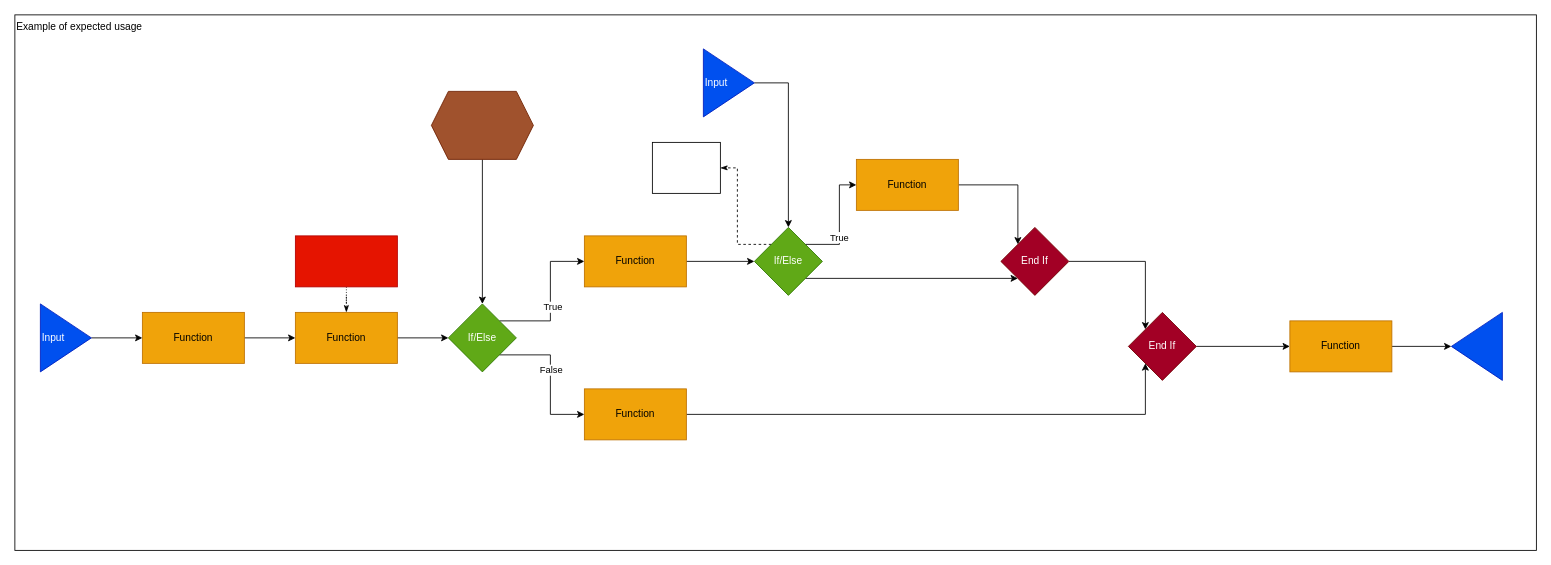
This 1551x565 diagram has some shape labels left out. Here are the shapes that lost their labels. From the top down, the centre of each, then its label:
[482,125]: Boolean Constructor
[686,167]: This If/Else is just an If Block.
[346,261]: Function Constructor
[1476,346]: Output
